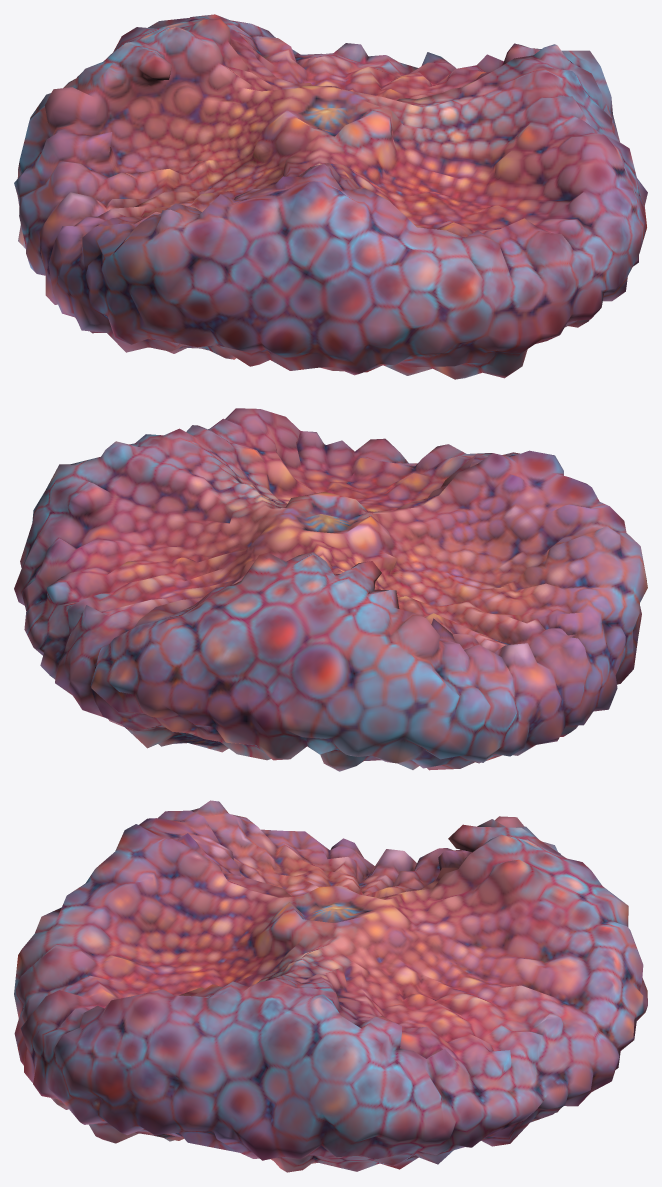
Rendered from Coral12.fbx.
The picture shows the model from 3 angles, top to bottom: view 1: azimuth 30°, elevation 25°; view 2: azimuth 150°, elevation 25°; view 3: azimuth 270°, elevation 25°; orthographic projection.
Visible parts, largest first — view 1: Coral4_1; view 2: Coral4_1; view 3: Coral4_1.
Boxes of the visible parts, left/top/right/bottom form: Coral4_1: left=14, top=14, right=647, bottom=379; Coral4_1: left=14, top=408, right=647, bottom=771; Coral4_1: left=14, top=800, right=647, bottom=1172.
Size of the model in its own units: 119 by 51.45 by 118.
